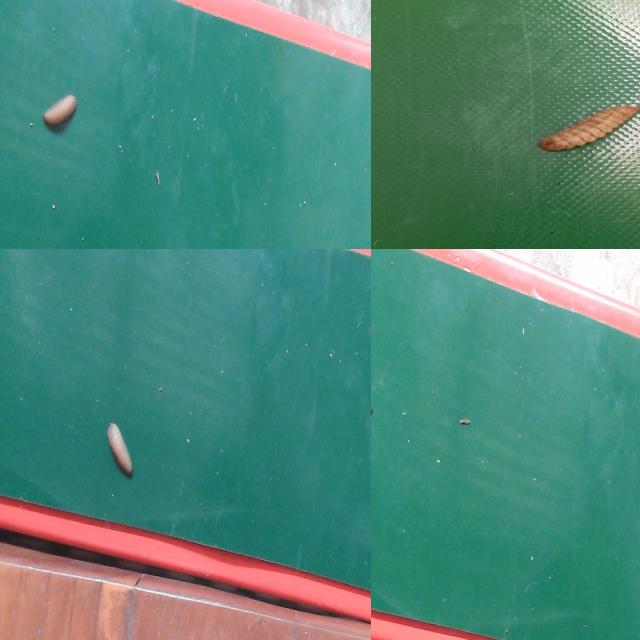Maggot: (536, 104, 640, 154), (105, 422, 135, 480), (39, 95, 78, 135)
